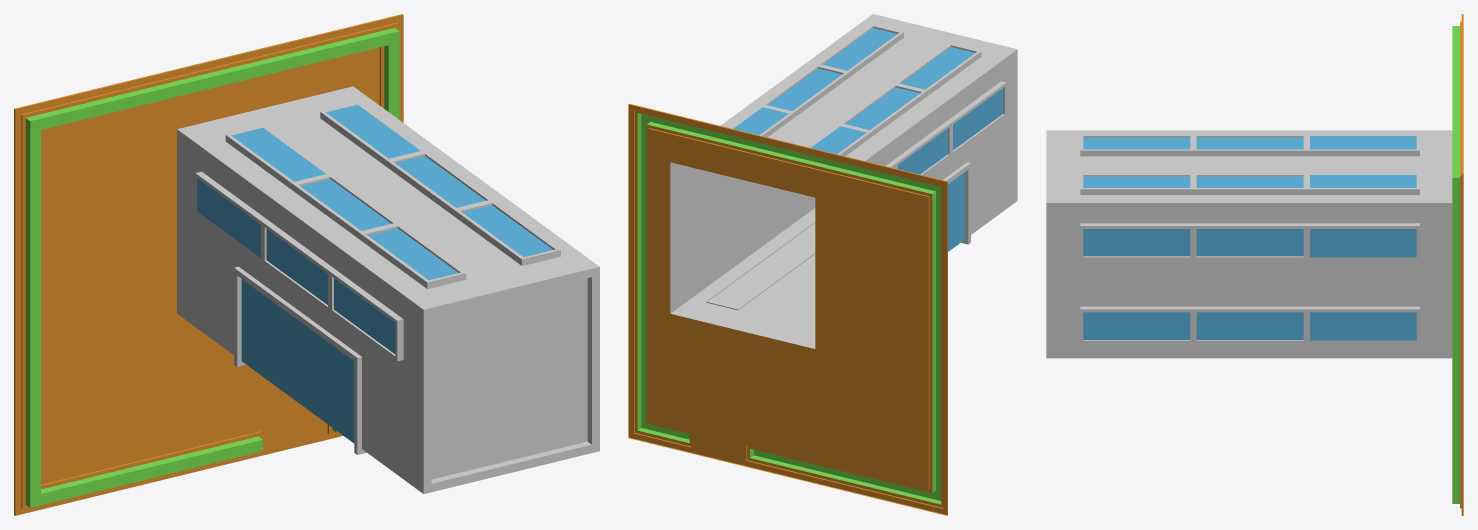
Rendered from Simple_Office_Building_01.fbx.
3 views of the same model, side by side, from view 1: azimuth 30°, elevation 25°; view 2: azimuth 150°, elevation 25°; view 3: azimuth 270°, elevation 25° (orthographic). The views are drawn at different scales.
Parts seen in each view (by area): view 1: Simple_Office_Building_01; view 2: Simple_Office_Building_01; view 3: Simple_Office_Building_01.
Boxes of the visible parts, x1=… form: Simple_Office_Building_01: x1=14, y1=14, x2=599, y2=515; Simple_Office_Building_01: x1=628, y1=14, x2=1017, y2=515; Simple_Office_Building_01: x1=1046, y1=14, x2=1463, y2=515.
Bounding box in the file's own units: 200 × 200 × 221.
